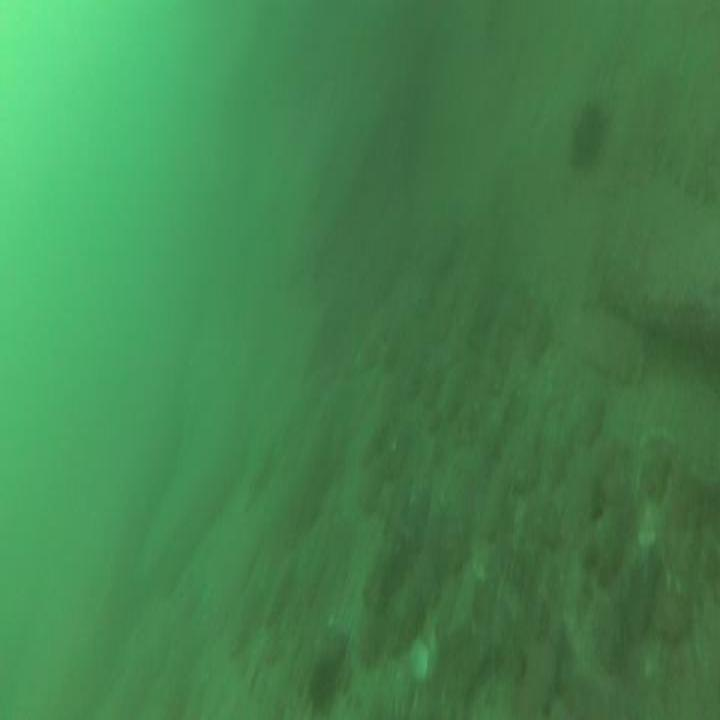echinus: (568, 98, 613, 172), (305, 649, 343, 720)
holothurian: (657, 105, 720, 210)
